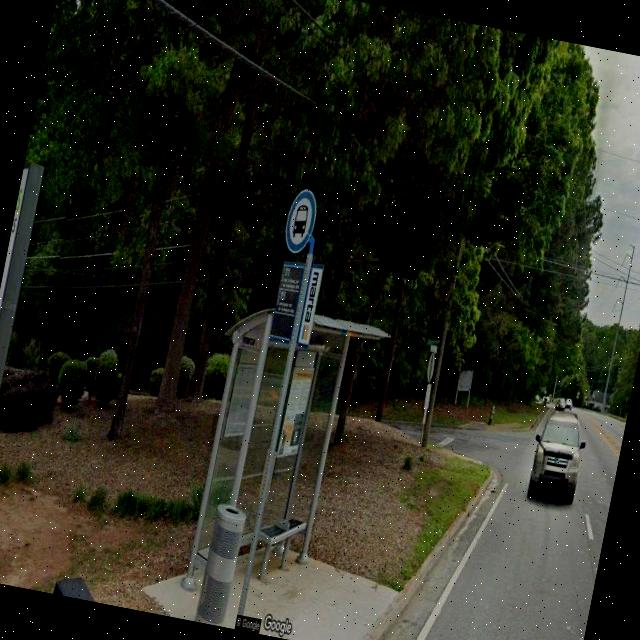seating: (250, 511, 306, 585)
shelter: (178, 293, 393, 626)
trash_can: (193, 500, 250, 627)
